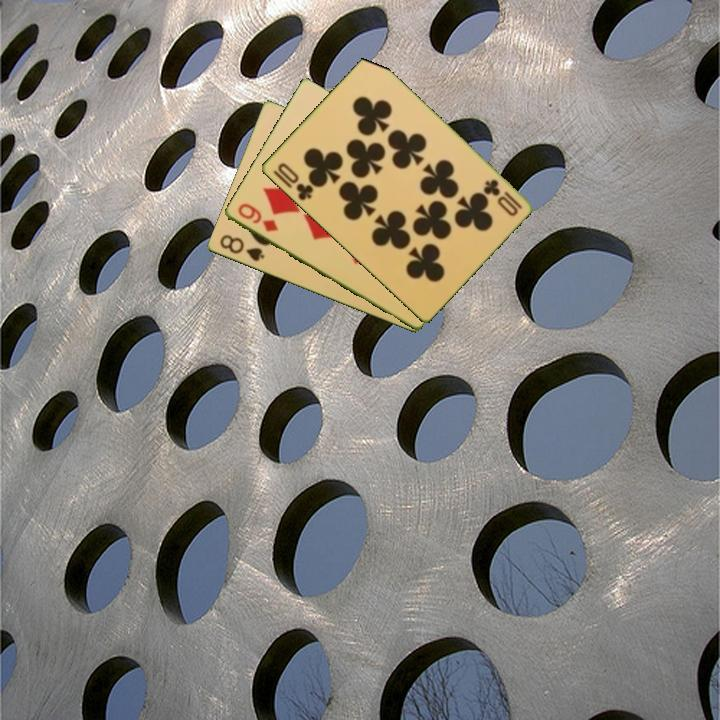10c: (479, 175, 525, 219), (274, 159, 316, 204)
8s: (216, 231, 267, 264)
9d: (234, 200, 281, 235)
